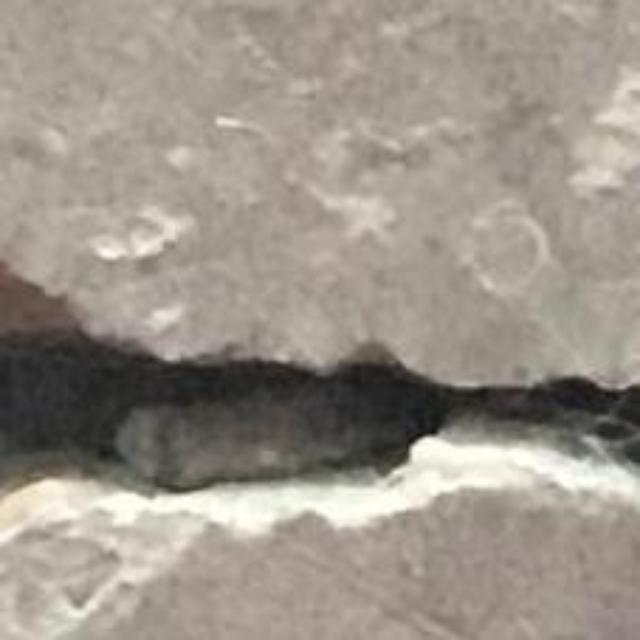crack: (0, 263, 639, 620)
